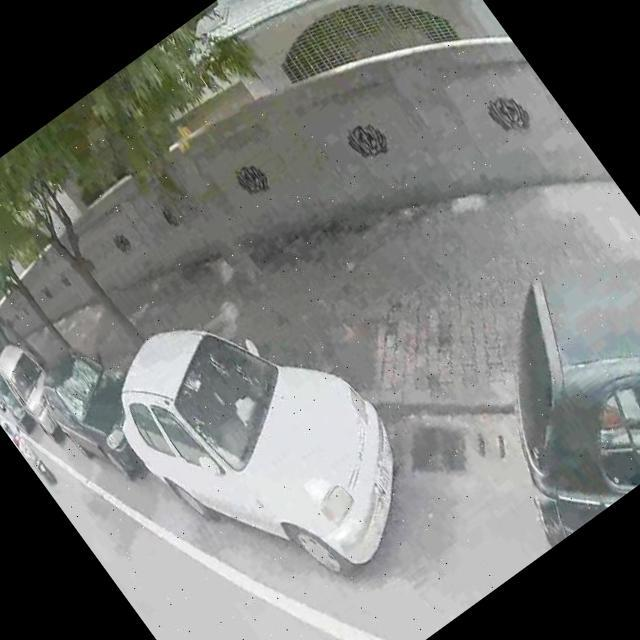person: (0, 416, 21, 442)
